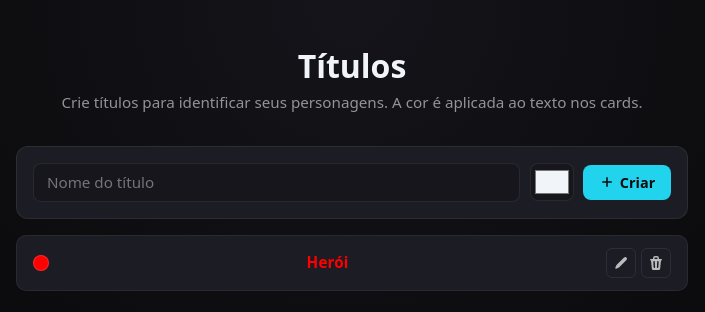
Titles Page › edita título com PATCH
Expected: the text "Herói" is shown, x1=307 y1=252 x2=349 y2=272
Click the button titled "Editar" at (621, 263), box x1=606 y1=248 x2=636 y2=278
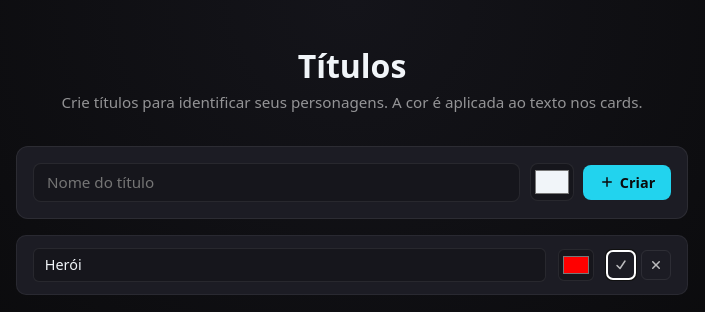
Replace the text in the field showing "Herói" with "Lenda" at (290, 265), box x1=33 y1=248 x2=546 y2=282
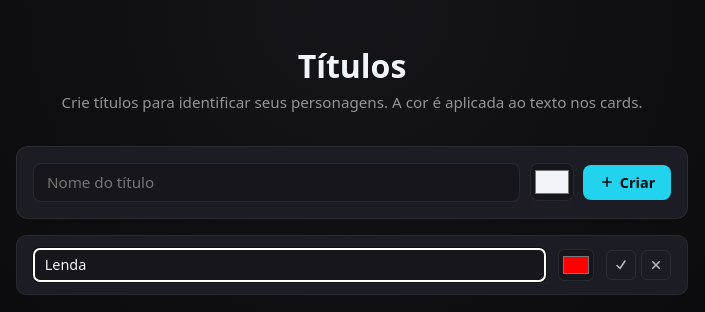
Click the button titled "Salvar" at (621, 265), box x1=606 y1=250 x2=636 y2=280
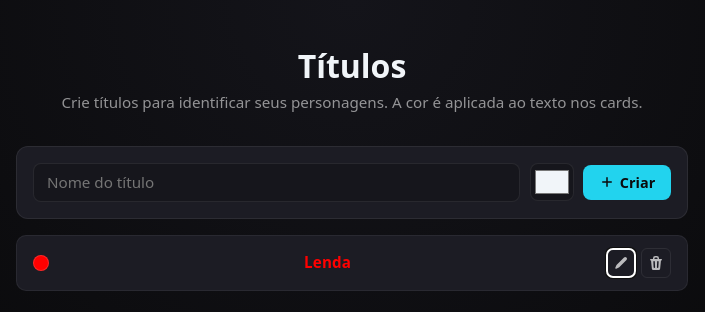
Now the text "Lenda" is shown, box x1=304 y1=252 x2=351 y2=272
